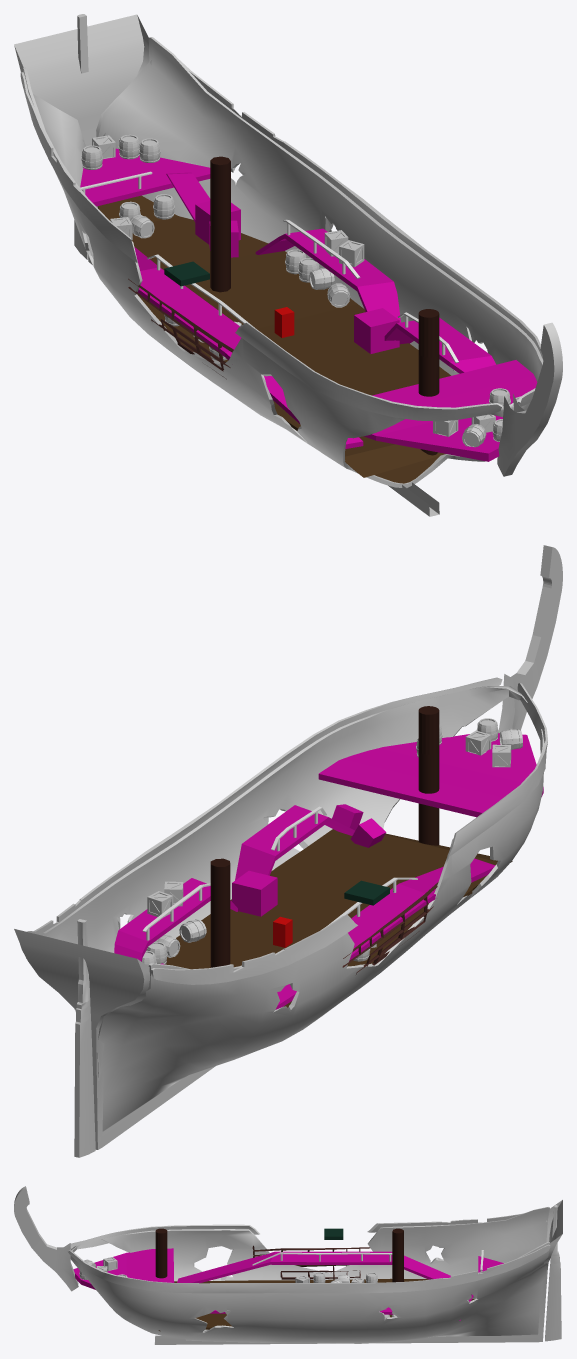
Rendered from Level1Blockout.fbx.
3 renders of one model, top to bottom at view 1: azimuth 30°, elevation 25°; view 2: azimuth 150°, elevation 25°; view 3: azimuth 270°, elevation 25°, orthographic. The views are drawn at different scales.
Parts seen in each view (by area): view 1: HullBelow.004, HullBelow.003, Keel.001, SidesPlanks.002, PLATFORM.004, PLATFORM.003, PLATFORM, PLATFORM.001, BackMainMast.001, PLATFORM.005, Front Mast.001, Cube.018 (+5 smaller); view 2: HullBelow.004, HullBelow.003, Keel.001, SidesPlanks.002, PLATFORM.004, Back bit.001, PLATFORM.003, PLATFORM.005, Front Mast.001, PLATFORM.001, BackMainMast.001, Cube.018 (+2 smaller); view 3: HullBelow.004, SidesPlanks.002, Keel.001, PLATFORM.003, PLATFORM.004, Back bit.001, HullBelow.003, Wood Structure.001, BackMainMast.001, Front Mast.001, Raling000, PLATFORM.006.
Boxes of the visible parts, x1,y1,x2,y2 form: HullBelow.004: [23, 37, 543, 487]; HullBelow.003: [97, 195, 450, 483]; Keel.001: [14, 14, 562, 516]; SidesPlanks.002: [20, 60, 543, 421]; PLATFORM.004: [364, 360, 537, 461]; PLATFORM.003: [134, 247, 363, 448]; PLATFORM: [80, 148, 210, 206]; PLATFORM.001: [255, 228, 400, 322]; BackMainMast.001: [210, 156, 230, 292]; PLATFORM.005: [384, 317, 495, 373]; Front Mast.001: [418, 309, 439, 455]; Cube.018: [354, 308, 399, 353]; HullBelow.004: [26, 686, 544, 1131]; HullBelow.003: [165, 829, 512, 1007]; Keel.001: [14, 545, 562, 1149]; SidesPlanks.002: [34, 677, 547, 984]; PLATFORM.004: [318, 733, 543, 817]; Back bit.001: [74, 919, 95, 1157]; PLATFORM.003: [275, 858, 495, 1009]; PLATFORM.005: [235, 805, 354, 880]; Front Mast.001: [418, 706, 439, 845]; PLATFORM.001: [114, 878, 237, 961]; BackMainMast.001: [210, 858, 230, 967]; Cube.018: [232, 870, 277, 916]; HullBelow.004: [70, 1207, 549, 1343]; SidesPlanks.002: [68, 1213, 550, 1293]; Keel.001: [14, 1186, 562, 1344]; PLATFORM.003: [177, 1251, 450, 1283]; PLATFORM.004: [73, 1248, 174, 1289]; Back bit.001: [545, 1205, 561, 1341]; HullBelow.003: [158, 1278, 474, 1331]; Wood Structure.001: [252, 1245, 369, 1279]; BackMainMast.001: [392, 1228, 403, 1282]; Front Mast.001: [155, 1228, 167, 1278]; Raling000: [252, 1252, 392, 1265]; PLATFORM.006: [324, 1228, 343, 1239].
Bounding box in the file's own units: 604 × 717 × 2282.
